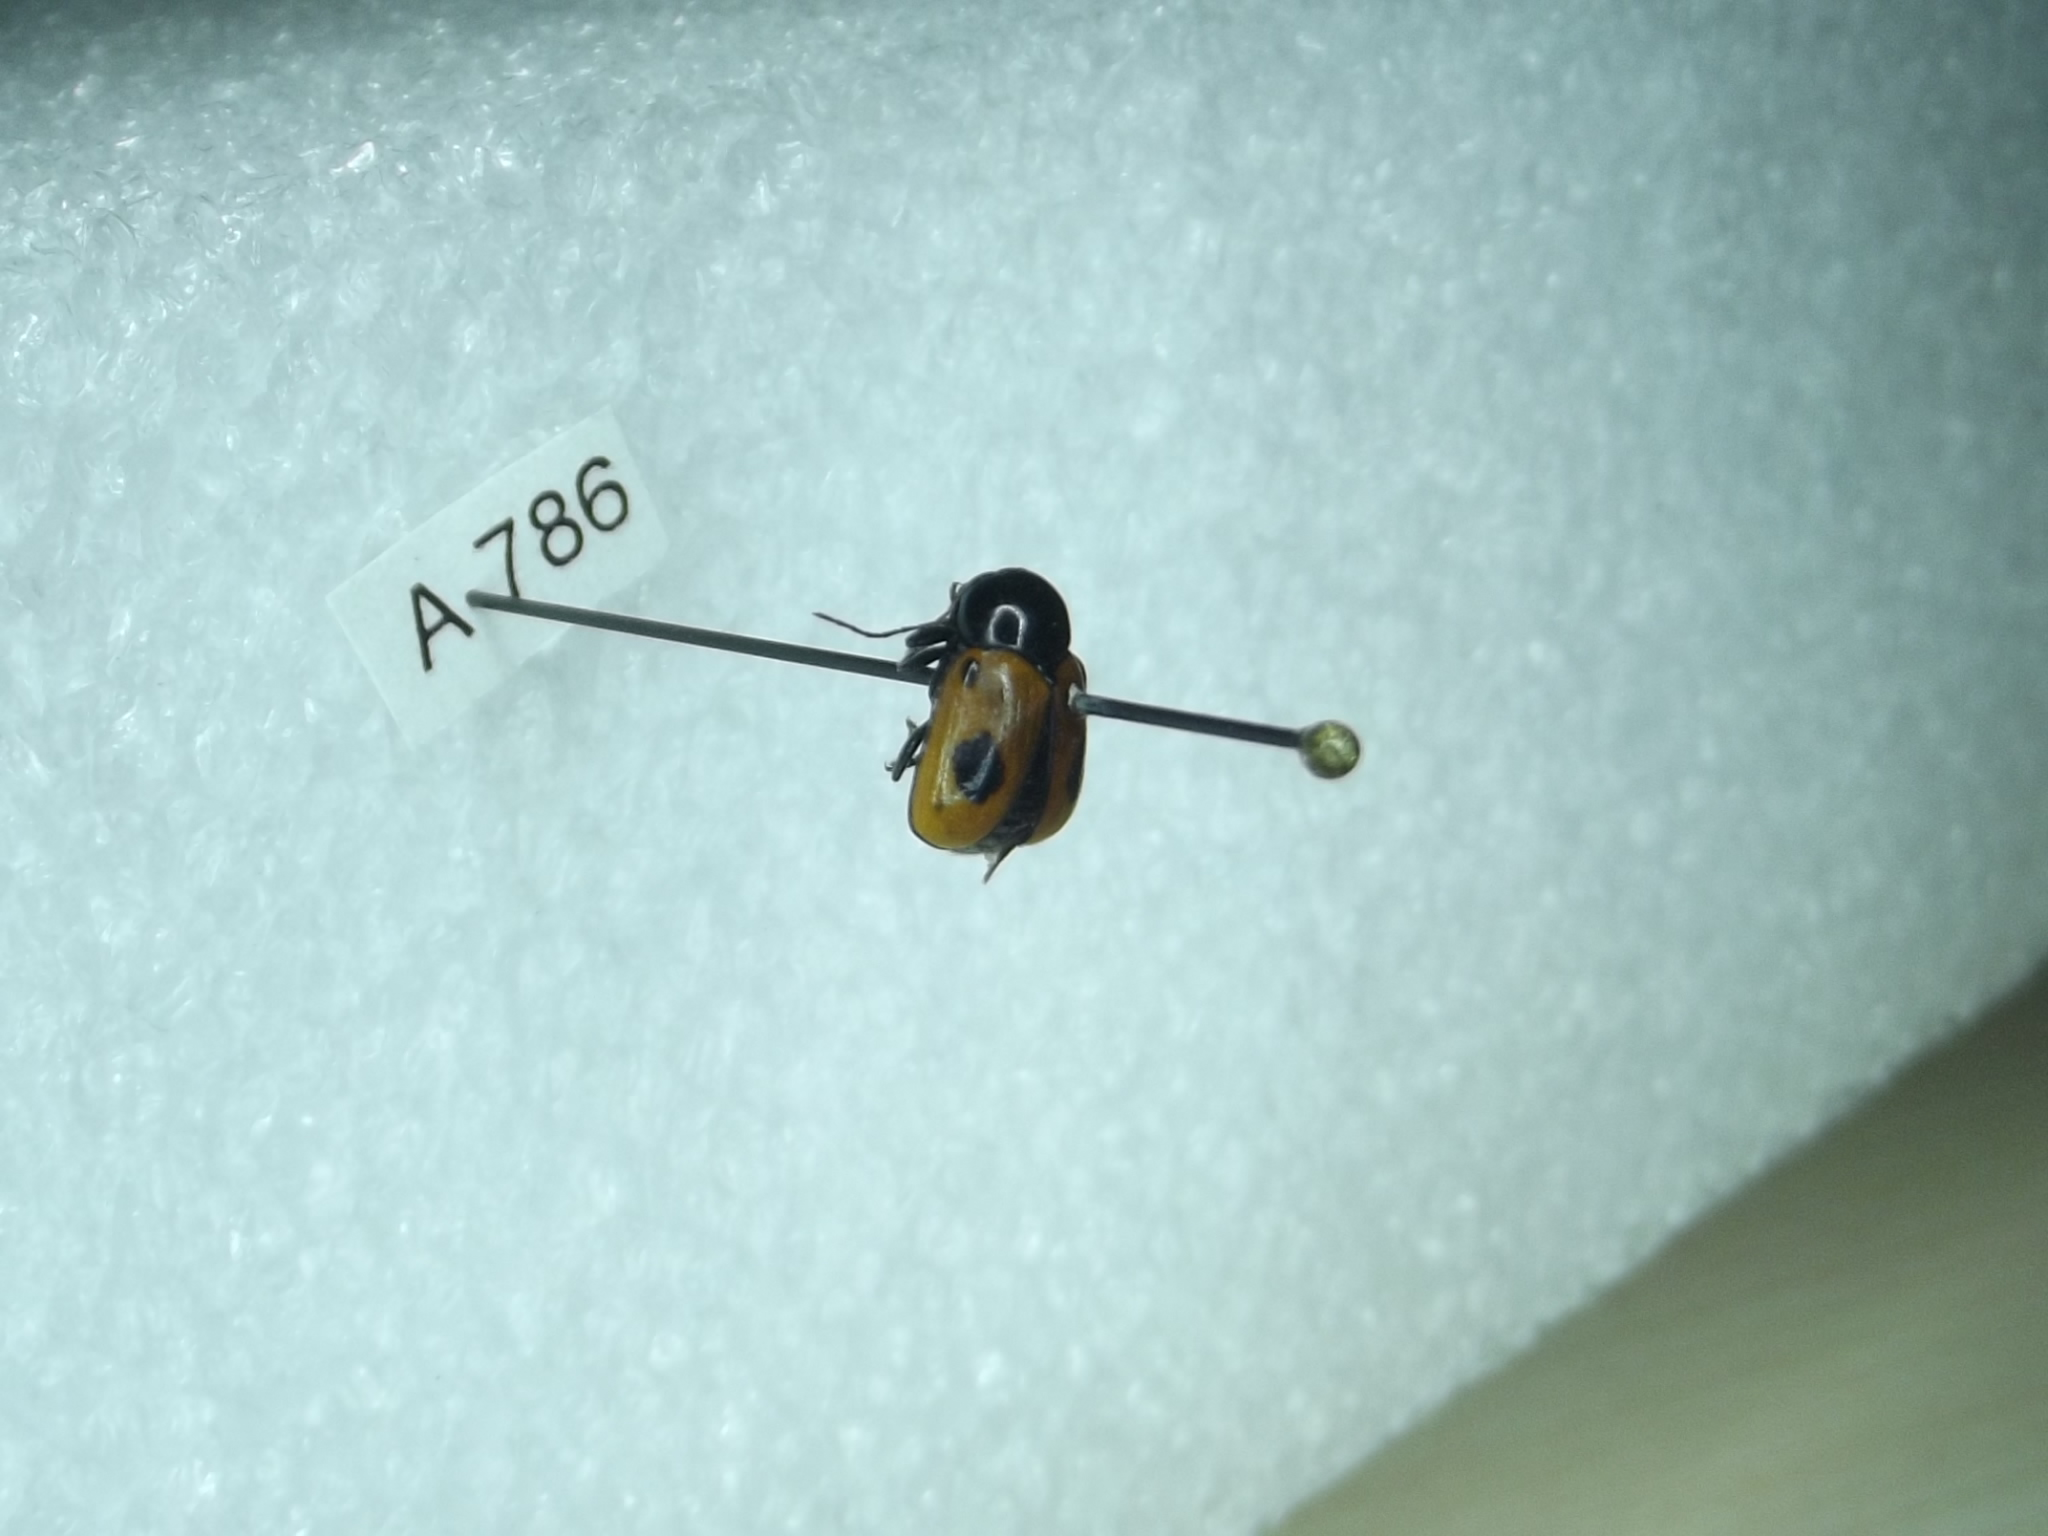Cryptocephalus_bipunctatus: (810, 544, 1098, 874)
